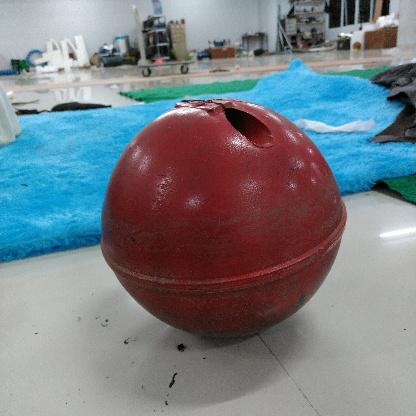red_buoy: (96, 86, 354, 344)
